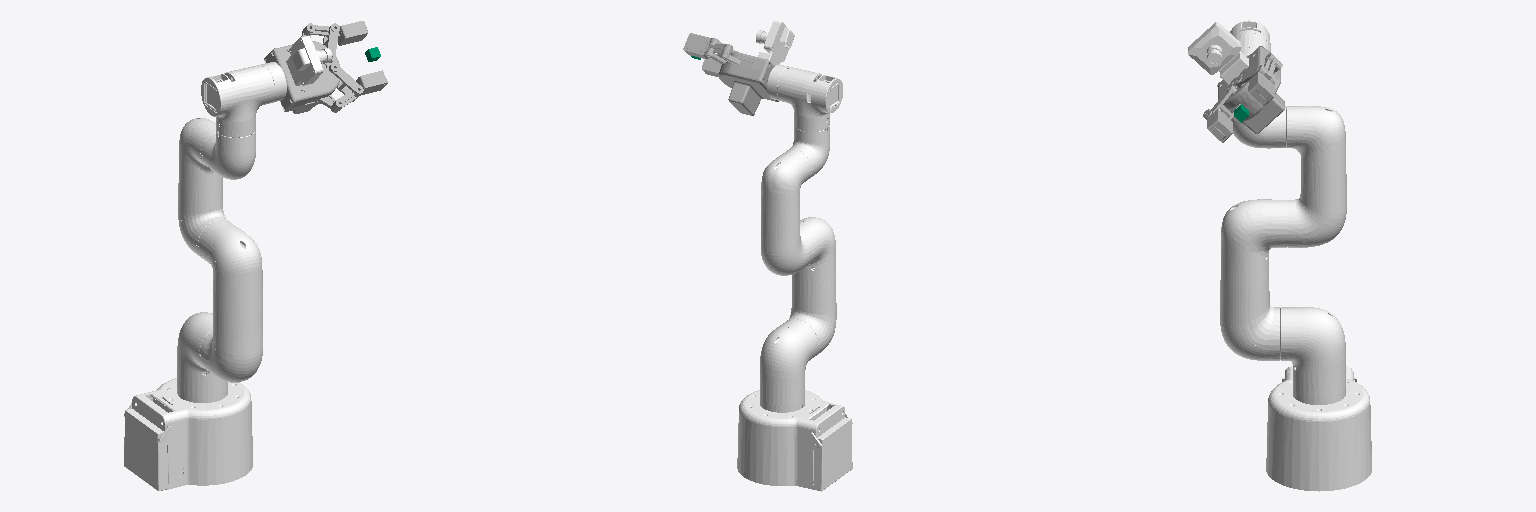
URDF robot description (jetcobot):
<?xml version="1.0" encoding="utf-8"?>
<!-- This URDF was automatically created by SolidWorks to URDF Exporter! Originally created by [author] ([email redacted]) 
     Commit Version: 1.6.0-1-g15f4949  Build Version: 1.6.7594.29634
     For more information, please see http://wiki.ros.org/sw_urdf_exporter -->
<robot name="jetcobot">
  <link name="dummy"/>
  <joint name="dummy_joint" type="fixed">
    <parent link="dummy"/>
    <child link="base_link"/>
  </joint>
  <link
    name="base_link">
    <inertial>
      <origin
        xyz="-0.0131083790012654 6.69302038809875E-06 0.0354087419202998"
        rpy="0 0 0" />
      <mass
        value="0.492874947350045" />
      <inertia
        ixx="0.000404279561956854"
        ixy="9.00304029145705E-08"
        ixz="-1.87890310458906E-05"
        iyy="0.000608346288236137"
        iyz="4.80299375571781E-08"
        izz="0.000624652394733672" />
    </inertial>
    <visual>
      <origin
        xyz="0 0 0"
        rpy="0 0 0" />
      <geometry>
        <mesh
          filename="package://jetcobot_description/meshes/base_link.STL" />
      </geometry>
      <material
        name="">
        <color
          rgba="1 1 1 1" />
      </material>
    </visual>
    <collision>
      <origin
        xyz="0 0 0"
        rpy="0 0 0" />
      <geometry>
        <mesh
          filename="package://jetcobot_description/meshes/base_link.STL" />
      </geometry>
    </collision>
  </link>
  <link
    name="1_Link">
    <inertial>
      <origin
        xyz="-1.31131235135193E-05 -0.00680904441821013 0.0422096528553218"
        rpy="0 0 0" />
      <mass
        value="0.0362552727733653" />
      <inertia
        ixx="2.91075748915876E-05"
        ixy="6.17235351914783E-09"
        ixz="-9.05544995948064E-09"
        iyy="3.1419883802157E-05"
        iyz="7.56958694374969E-06"
        izz="1.50541827786635E-05" />
    </inertial>
    <visual>
      <origin
        xyz="0 0 0"
        rpy="0 0 0" />
      <geometry>
        <mesh
          filename="package://jetcobot_description/meshes/Link_1.STL" />
      </geometry>
      <material
        name="">
        <color
          rgba="1 1 1 1" />
      </material>
    </visual>
    <collision>
      <origin
        xyz="0 0 0"
        rpy="0 0 0" />
      <geometry>
        <mesh
          filename="package://jetcobot_description/meshes/Link_1.STL" />
      </geometry>
    </collision>
  </link>
  <joint
    name="1_Joint"
    type="revolute">
    <origin
      xyz="0 0 0.074520000000001"
      rpy="0 0 0" />
    <parent
      link="base_link" />
    <child
      link="1_Link" />
    <axis
      xyz="0 0 1" />
    <limit
      lower="-3.14"
      upper="3.14"
      effort="0"
      velocity="0" />
  </joint>
  <link
    name="2_Link">
    <inertial>
      <origin
        xyz="-7.75613648330207E-06 -0.0235034548911008 0.0516000320310254"
        rpy="0 0 0" />
      <mass
        value="0.0668252611526333" />
      <inertia
        ixx="0.00015843232374682"
        ixy="-1.60643645992328E-09"
        ixz="8.77346086416886E-09"
        iyy="0.00016705510176789"
        iyz="-5.95622238422236E-07"
        izz="2.06389799675899E-05" />
    </inertial>
    <visual>
      <origin
        xyz="0 0 0"
        rpy="0 0 0" />
      <geometry>
        <mesh
          filename="package://jetcobot_description/meshes/Link_2.STL" />
      </geometry>
      <material
        name="">
        <color
          rgba="1 1 1 1" />
      </material>
    </visual>
    <collision>
      <origin
        xyz="0 0 0"
        rpy="0 0 0" />
      <geometry>
        <mesh
          filename="package://jetcobot_description/meshes/Link_2.STL" />
      </geometry>
    </collision>
  </link>
  <joint
    name="2_Joint"
    type="revolute">
    <origin
      xyz="-2.56344886174708E-05 -0.0349999906124702 0.06"
      rpy="0 0 0" />
    <parent
      link="1_Link" />
    <child
      link="2_Link" />
    <axis
      xyz="0 -1 0" />
    <limit
      lower="-2.9"
      upper="2.9"
      effort="0"
      velocity="0" />
  </joint>
  <link
    name="3_Link">
    <inertial>
      <origin
        xyz="1.6839879676764E-05 0.023294180860769 0.0437213142176436"
        rpy="0 0 0" />
      <mass
        value="0.0533199813011819" />
      <inertia
        ixx="9.73800220777058E-05"
        ixy="4.03928474755798E-09"
        ixz="9.626338081533E-09"
        iyy="0.000101574874298831"
        iyz="-4.03698497989361E-06"
        izz="1.36929060248111E-05" />
    </inertial>
    <visual>
      <origin
        xyz="0 0 0"
        rpy="0 0 0" />
      <geometry>
        <mesh
          filename="package://jetcobot_description/meshes/Link_3.STL" />
      </geometry>
      <material
        name="">
        <color
          rgba="1 1 1 1" />
      </material>
    </visual>
    <collision>
      <origin
        xyz="0 0 0"
        rpy="0 0 0" />
      <geometry>
        <mesh
          filename="package://jetcobot_description/meshes/Link_3.STL" />
      </geometry>
    </collision>
  </link>
  <joint
    name="3_Joint"
    type="revolute">
    <origin
      xyz="0 0.00678999562722426 0.109999999944807"
      rpy="0 0 0" />
    <parent
      link="2_Link" />
    <child
      link="3_Link" />
    <axis
      xyz="0 -1 0" />
    <limit
      lower="-2.3"
      upper="2.3"
      effort="0"
      velocity="0" />
  </joint>
  <link
    name="4_Link">
    <inertial>
      <origin
        xyz="-4.84201074579515E-06 -0.0230260014326339 0.0076796931512822"
        rpy="0 0 0" />
      <mass
        value="0.0240531902650696" />
      <inertia
        ixx="9.31854762217622E-06"
        ixy="6.04168630160668E-10"
        ixz="3.4137552727643E-09"
        iyy="7.73418506337023E-06"
        iyz="3.30830574244328E-06"
        izz="7.81256309739935E-06" />
    </inertial>
    <visual>
      <origin
        xyz="0 0 0"
        rpy="0 0 0" />
      <geometry>
        <mesh
          filename="package://jetcobot_description/meshes/Link_4.STL" />
      </geometry>
      <material
        name="">
        <color
          rgba="1 1 1 1" />
      </material>
    </visual>
    <collision>
      <origin
        xyz="0 0 0"
        rpy="0 0 0" />
      <geometry>
        <mesh
          filename="package://jetcobot_description/meshes/Link_4.STL" />
      </geometry>
    </collision>
  </link>
  <joint
    name="4_Joint"
    type="revolute">
    <origin
      xyz="0 -0.00134543437627838 0.0959999996761873"
      rpy="0 0 0" />
    <parent
      link="3_Link" />
    <child
      link="4_Link" />
    <axis
      xyz="0 -1 0" />
    <limit
      lower="-2.6"
      upper="2.6"
      effort="0"
      velocity="0" />
  </joint>
  <link
    name="5_Link">
    <inertial>
      <origin
        xyz="0.000920147444179747 -8.87115340001549E-05 0.0288537732000537"
        rpy="0 0 0" />
      <mass
        value="0.0314577601971656" />
      <inertia
        ixx="1.33683459564198E-05"
        ixy="2.60891660423066E-08"
        ixz="-2.99675037743924E-06"
        iyy="1.32866723243173E-05"
        iyz="1.65645962236069E-08"
        izz="8.52777440880247E-06" />
    </inertial>
    <visual>
      <origin
        xyz="0 0 0"
        rpy="0 0 0" />
      <geometry>
        <mesh
          filename="package://jetcobot_description/meshes/Link_5.STL" />
      </geometry>
      <material
        name="">
        <color
          rgba="1 1 1 1" />
      </material>
    </visual>
    <collision>
      <origin
        xyz="0 0 0"
        rpy="0 0 0" />
      <geometry>
        <mesh
          filename="package://jetcobot_description/meshes/Link_5.STL" />
      </geometry>
    </collision>
  </link>
  <joint
    name="5_Joint"
    type="revolute">
    <origin
      xyz="-2.51335035583085E-05 -0.0335399905878049 0.0348292449246146"
      rpy="0 0 0" />
    <parent
      link="4_Link" />
    <child
      link="5_Link" />
    <axis
      xyz="0 0 1" />
    <limit
      lower="-2.5"
      upper="2.5"
      effort="0"
      velocity="0" />
  </joint>
  <link
    name="6_Link">
    <inertial>
      <origin
        xyz="0.00719200131540984 -7.65911084783799E-06 3.05896694446917E-06"
        rpy="0 0 0" />
      <mass
        value="0.00770526463879312" />
      <inertia
        ixx="1.35526258323655E-06"
        ixy="-5.85324410888035E-10"
        ixz="5.99325370891833E-11"
        iyy="8.40446638273888E-07"
        iyz="-2.43816134145291E-10"
        izz="8.40443397022734E-07" />
    </inertial>
    <visual>
      <origin
        xyz="0 0 0"
        rpy="0 0 0" />
      <geometry>
        <mesh
          filename="package://jetcobot_description/meshes/Link_6.STL" />
      </geometry>
      <material
        name="">
        <color
          rgba="1 1 1 1" />
      </material>
    </visual>
    <collision>
      <origin
        xyz="0 0 0"
        rpy="0 0 0" />
      <geometry>
        <mesh
          filename="package://jetcobot_description/meshes/Link_6.STL" />
      </geometry>
    </collision>
  </link>
  <joint
    name="6_Joint"
    type="revolute">
    <origin
      xyz="0.0319651869150594 -2.83148869312522E-05 0.03992044757551"
      rpy="0.785398 0 0" />
    <parent
      link="5_Link" />
    <child
      link="6_Link" />
    <axis
      xyz="1 0 0" />
    <limit
      lower="-2.84"
      upper="2.84"
      effort="0"
      velocity="0" />
  </joint>
  <link
    name="gripper_link">
    <inertial>
      <origin
        xyz="-0.0127383844547501 -0.00102792378260975 0.00665087237013234"
        rpy="0 0 0" />
      <mass
        value="0.122679365027093" />
      <inertia
        ixx="3.97803940650974E-05"
        ixy="1.74508723344598E-07"
        ixz="5.13423679351684E-07"
        iyy="4.07773392923937E-05"
        iyz="-2.34868583366612E-06"
        izz="5.19432393430342E-05" />
    </inertial>
    <visual>
      <origin
        xyz="0 0 0"
        rpy="0 0 0" />
      <geometry>
        <mesh
          filename="package://jetcobot_description/meshes/jiazhua_Link.STL" />
      </geometry>
      <material
        name="">
        <color
          rgba="0.752941176470588 0.752941176470588 0.752941176470588 1" />
      </material>
    </visual>
    <collision>
      <origin
        xyz="0 0 0"
        rpy="0 0 0" />
      <geometry>
        <mesh
          filename="package://jetcobot_description/meshes/jiazhua_Link.STL" />
      </geometry>
    </collision>
  </link>
  <joint
    name="gripper_Joint"
    type="fixed">
    <origin
      xyz="0.0639055160565718 -5.66075356250029E-05 -0.00773230647256523"
      rpy="0 0 0" />
    <parent
      link="6_Link" />
    <child
      link="gripper_link" />
    <axis
      xyz="0 0 0" />
  </joint>
  <link
    name="jetcocam">
    <inertial>
      <origin
        xyz="-0.00275231085999596 -0.000213763964140273 0.00241270444256747"
        rpy="0 -1.5707963 1.5707963" />
      <mass
        value="0.0173158610148997" />
      <inertia
        ixx="3.93857833594377E-06"
        ixy="5.78200746595397E-09"
        ixz="3.48752198317634E-07"
        iyy="2.77644660480074E-06"
        iyz="1.7431869934464E-09"
        izz="2.12940000335535E-06" />
    </inertial>
    <visual>
      <origin
        xyz="0 0.01 0"
        rpy="0 -1.5707963 1.5707963" />
      <geometry>
        <mesh
          filename="package://jetcobot_description/meshes/camera_Link.STL" />
      </geometry>
      <material
        name="">
        <color
         rgba="1 1 1 1" />
      </material>
    </visual>
    <collision>
      <origin
        xyz="0 0.01 0"
        rpy="0 -1.5707963 1.5707963" />
      <geometry>
        <mesh
          filename="package://jetcobot_description/meshes/camera_Link.STL" />
      </geometry>
    </collision>
  </link>
  <joint
    name="camera_joint"
    type="fixed">
    <origin
      xyz="0.033 0 0.045"
      rpy="-1.5707963 0 -1.5707963" />
    <parent
      link="6_Link" />
    <child
      link="jetcocam" />
    <axis
      xyz="0 0 0" />
  </joint>
  <link name="TCP">
        <visual>
            <geometry>
                <box size="0.01 0.01 0.01"/>
            </geometry>
            <origin xyz="0 0 0" rpy="0 0 0"/>
        </visual>
  </link>
  <joint name="TCP_joint" type="fixed">
      <parent link="gripper_link"/>
      <child link="TCP"/>
      <origin xyz="0.05 0 0.0177" rpy="-1.5707963 0 -1.5707963"/>
  </joint>

  <link name="ov3360">
  </link>
  <joint name="ov3360_joint" type="fixed">
    <parent link="jetcocam"/>
    <child link="ov3360"/>
    <origin xyz="0.0 0.0 0.0" rpy="0 0 3.141592"/>
  </joint>

</robot>

--- Render facts (derived) ---
Views: 3 orthographic renders of the robot side by side, from view 1: azimuth 30°, elevation 25°; view 2: azimuth 150°, elevation 25°; view 3: azimuth 270°, elevation 25°.
Robot: jetcobot — 12 links, 11 joints (6 revolute, 5 fixed); root link dummy; default pose: every joint at zero.
Visible links, largest first — view 1: base_link, 2_Link, gripper_link, 3_Link, 5_Link, 1_Link, 4_Link, jetcocam; view 2: base_link, 3_Link, 2_Link, 1_Link, gripper_link, 5_Link, 4_Link, jetcocam; view 3: base_link, 2_Link, 3_Link, 1_Link, gripper_link, jetcocam, 4_Link, 5_Link.
Boxes of the visible links, x1,y1,x2,y2 form: base_link: (124, 378, 252, 490); 2_Link: (198, 220, 262, 382); gripper_link: (264, 21, 387, 113); 3_Link: (178, 118, 230, 258); 5_Link: (201, 65, 274, 137); 1_Link: (177, 312, 227, 402); 4_Link: (201, 131, 255, 179); jetcocam: (286, 35, 332, 85); base_link: (737, 390, 852, 491); 3_Link: (761, 149, 812, 275); 2_Link: (787, 217, 836, 357); 1_Link: (760, 319, 817, 412); gripper_link: (683, 33, 778, 115); 5_Link: (777, 67, 842, 131); 4_Link: (787, 125, 829, 178); jetcocam: (756, 21, 794, 65); base_link: (1266, 366, 1371, 491); 2_Link: (1220, 199, 1287, 360); 3_Link: (1286, 106, 1346, 247); 1_Link: (1280, 307, 1345, 404); gripper_link: (1203, 46, 1284, 142); jetcocam: (1188, 22, 1248, 83); 4_Link: (1231, 106, 1286, 148); 5_Link: (1230, 20, 1270, 52).
Size in the robot's own frame: 0.2182 by 0.1665 by 0.4705 metres.
9 mesh visuals loaded from 9 distinct referenced files (9 binary STL).
